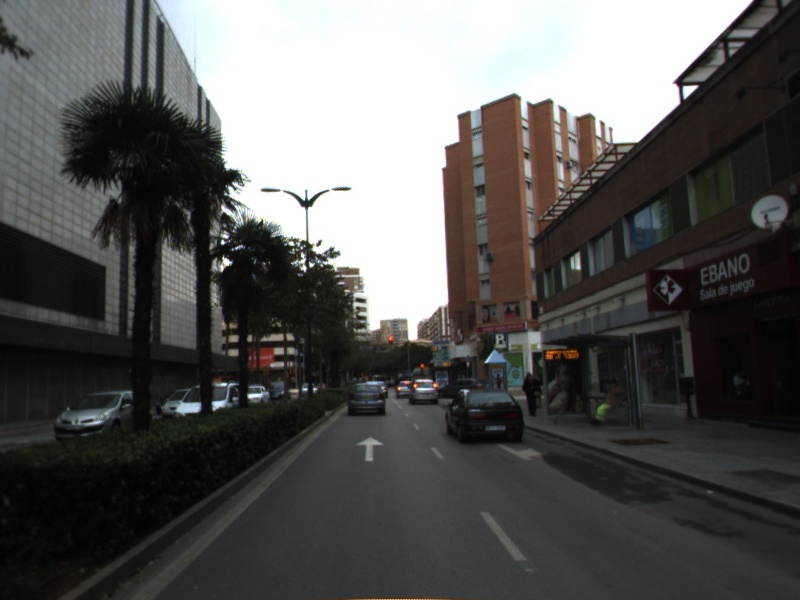STRAIGHT: (354, 435, 385, 463)
